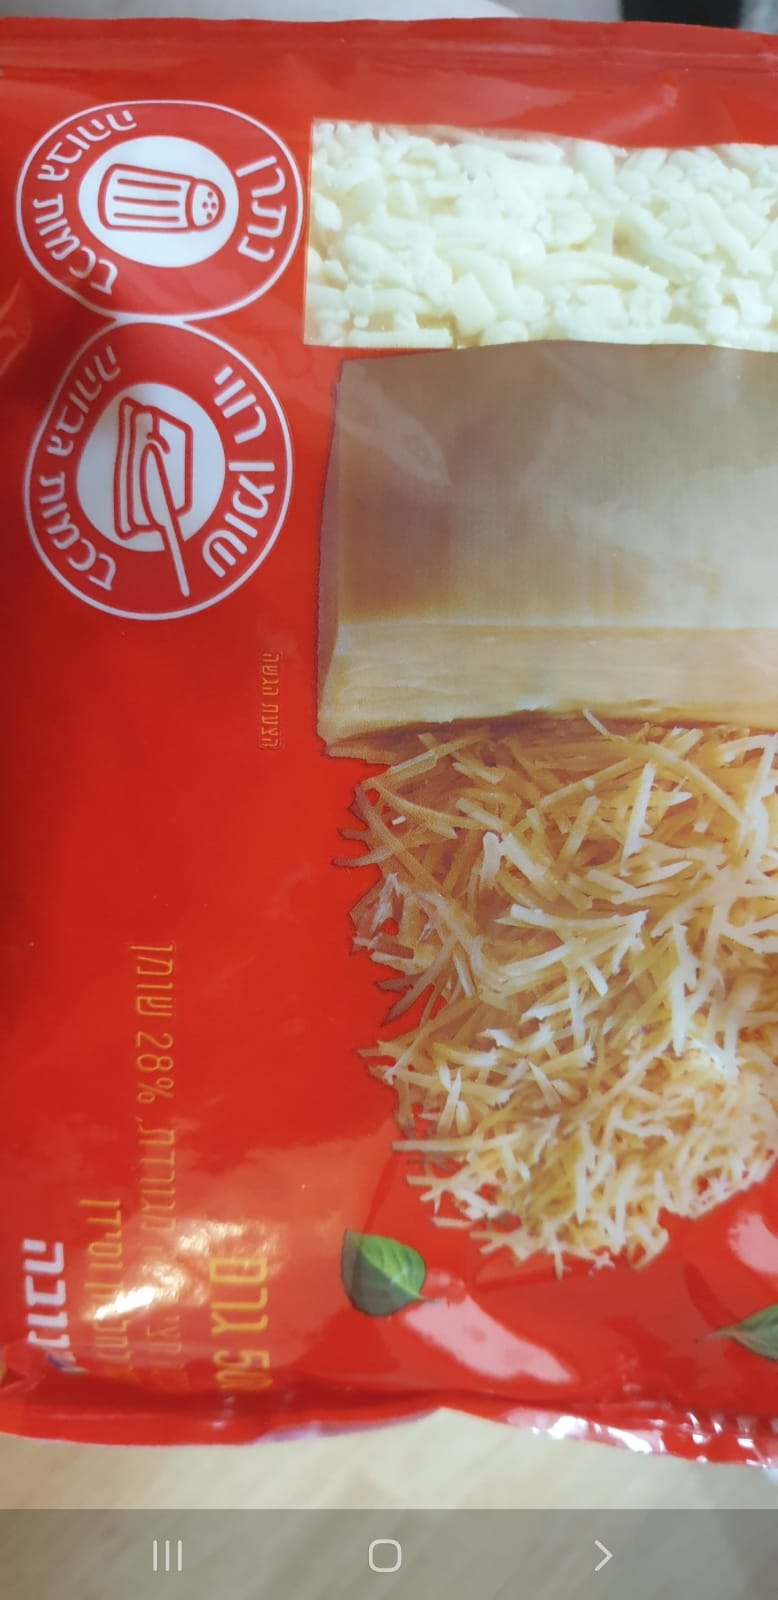fat: (18, 323, 298, 624)
salt: (15, 98, 306, 323)
